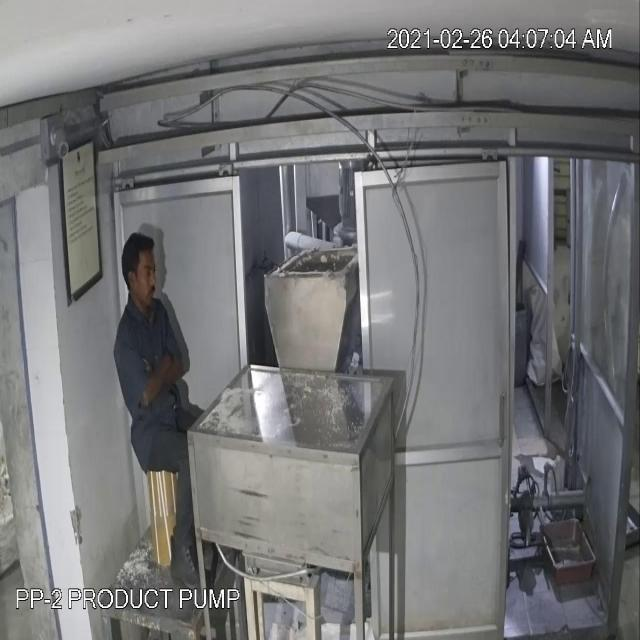no-helmet: (122, 228, 162, 282)
